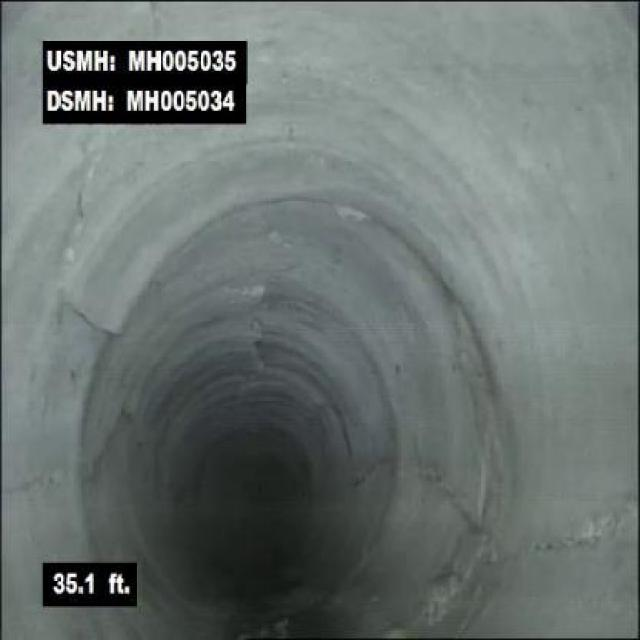Crack: (48, 155, 128, 343), (502, 498, 638, 597), (428, 462, 488, 532), (6, 465, 86, 497), (146, 1, 168, 37)
